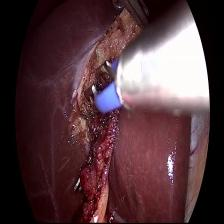Bipolar: (82, 58, 132, 112)
Grasper: (119, 0, 153, 31)
